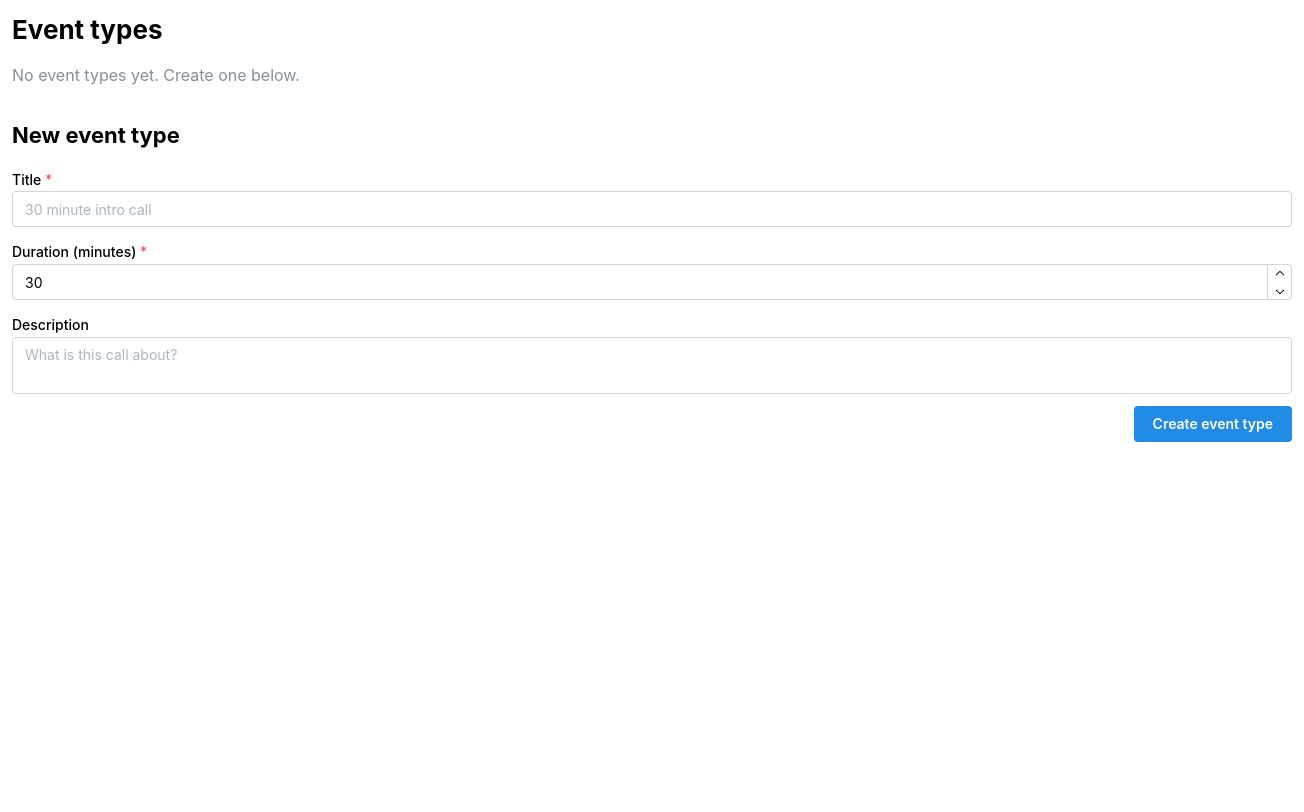
EventTypesPage › surfaces a 400 validation error from the API
Expected: the text "No event types yet. Create one below." is shown, [12,65,300,85]
In the field labelled "Title *": [652, 210] box [12,192,1292,228], type "Valid title"
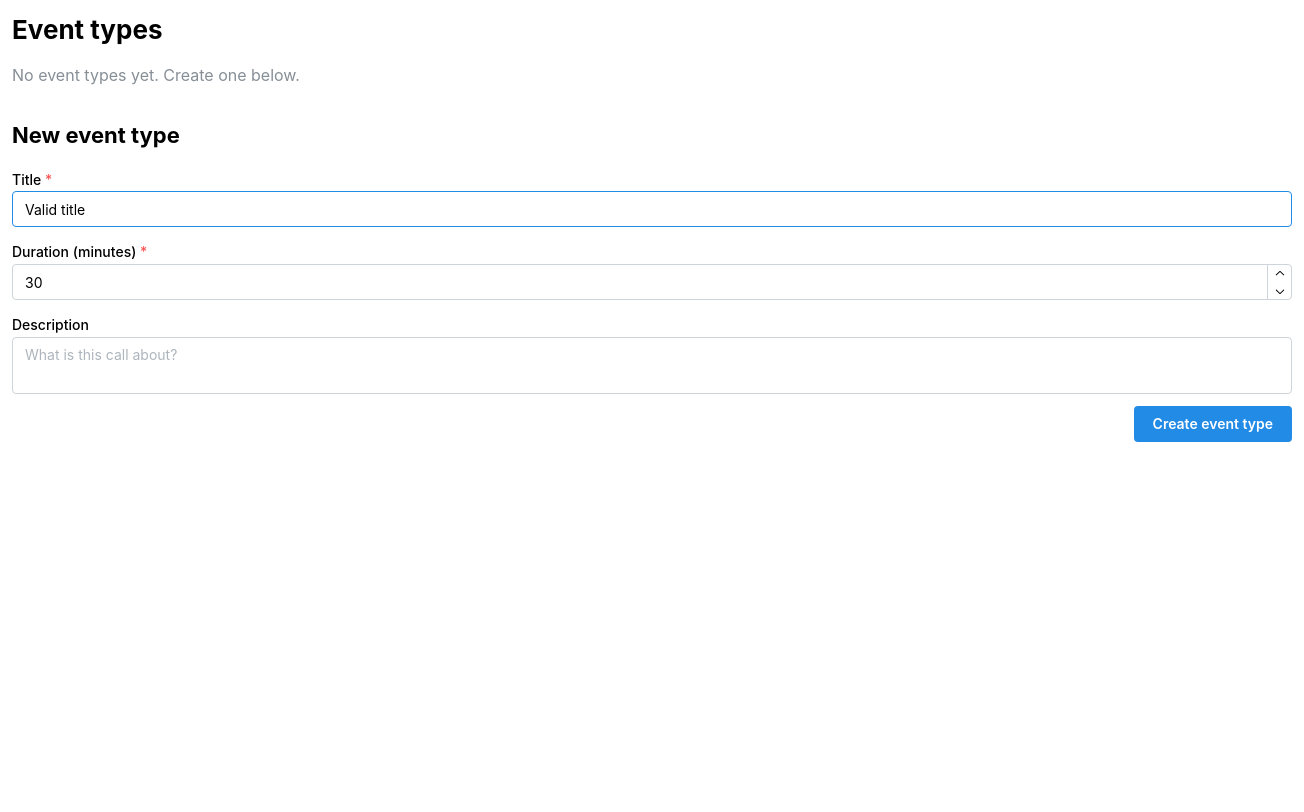
Click the button "Create event type": [1213, 424] box [1134,406,1292,442]
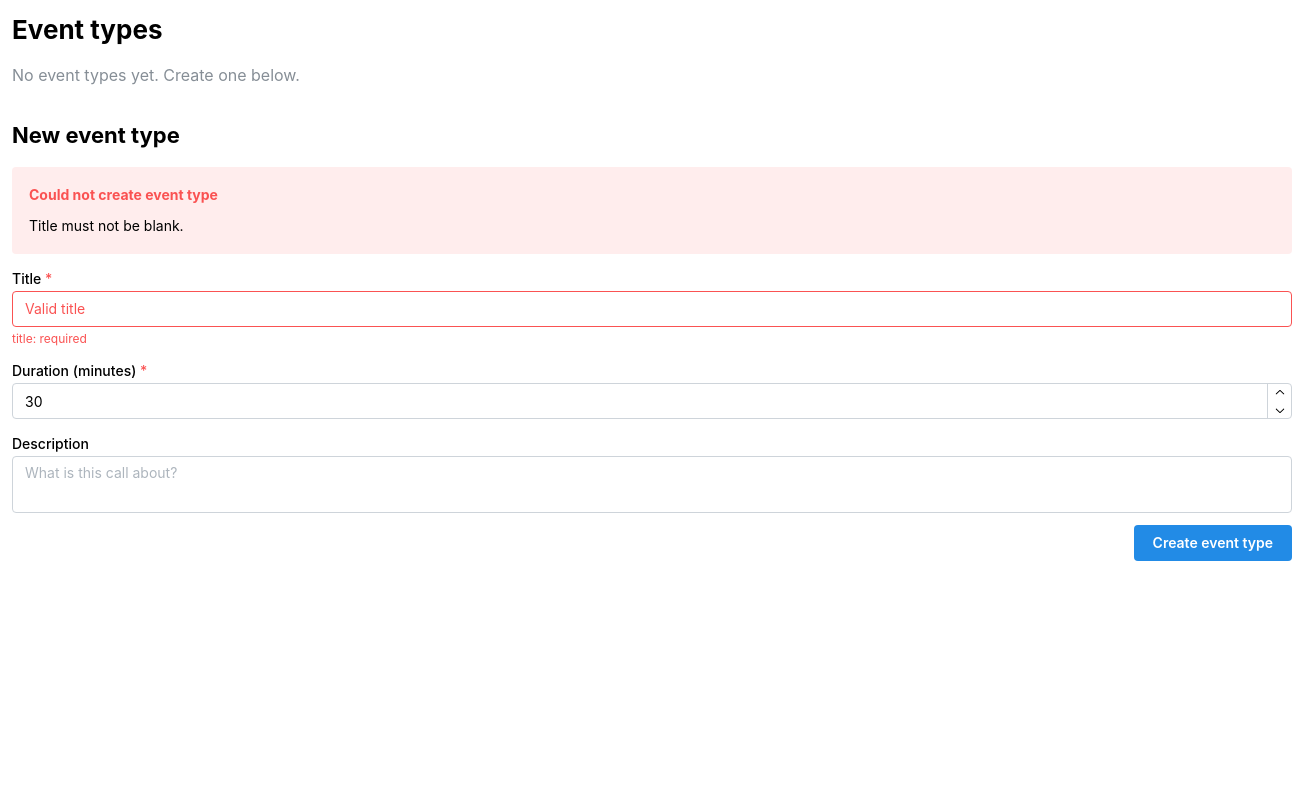
Expected: the text "Title must not be blank." is shown, [29,217,184,234]
Expected: the text "title: required" is shown, [12,331,87,346]
